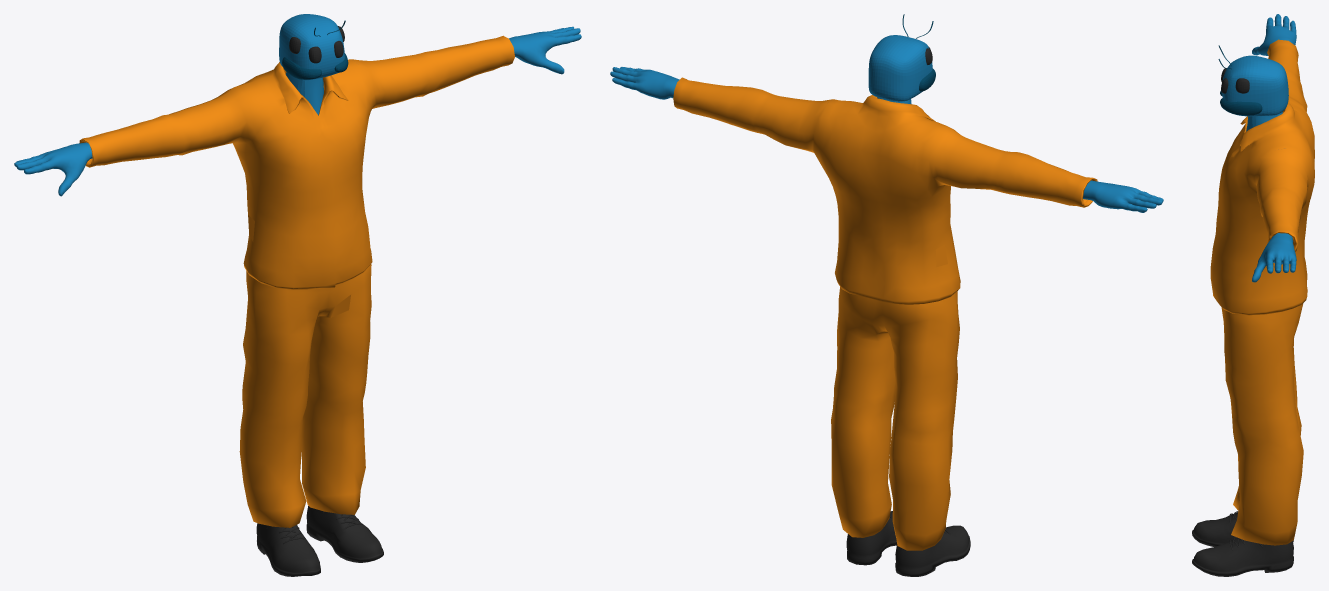
Rendered from Bibbs.obj.
The picture shows the model from 3 angles, left to right: view 1: azimuth 30°, elevation 25°; view 2: azimuth 150°, elevation 25°; view 3: azimuth 270°, elevation 25°; orthographic projection. The views are drawn at different scales.
Parts seen in each view (by area): view 1: Bibbs_Group Bibbs_Model_and_Texture:Giggles_Model_and_Texture:To, Bibbs_Group Bibbs_Model_and_Texture:Giggles_Model_and_Texture:Bo, Bibbs_Group Bibbs_Model_and_Texture:Giggles_Model_and_Texture:Sh, Bibbs_Group Bibbs_Model_and_Texture:Bibbs_Head:Group1, Bibbs_Model_and_Texture:Giggles_Model_and_Texture:Body Bibbs_Gro; view 2: Bibbs_Group Bibbs_Model_and_Texture:Giggles_Model_and_Texture:To, Bibbs_Group Bibbs_Model_and_Texture:Giggles_Model_and_Texture:Bo, Bibbs_Group Bibbs_Model_and_Texture:Bibbs_Head:Group1, Bibbs_Group Bibbs_Model_and_Texture:Giggles_Model_and_Texture:Sh, Bibbs_Model_and_Texture:Giggles_Model_and_Texture:Body Bibbs_Gro; view 3: Bibbs_Group Bibbs_Model_and_Texture:Giggles_Model_and_Texture:To, Bibbs_Group Bibbs_Model_and_Texture:Giggles_Model_and_Texture:Bo, Bibbs_Group Bibbs_Model_and_Texture:Giggles_Model_and_Texture:Sh, Bibbs_Group Bibbs_Model_and_Texture:Bibbs_Head:Group1, Bibbs_Model_and_Texture:Giggles_Model_and_Texture:Body Bibbs_Gro.
Part boxes in pixels (bbox=[...]): Bibbs_Group Bibbs_Model_and_Texture:Giggles_Model_and_Texture:To: bbox=[79, 35, 514, 289]; Bibbs_Group Bibbs_Model_and_Texture:Giggles_Model_and_Texture:Bo: bbox=[239, 264, 371, 527]; Bibbs_Group Bibbs_Model_and_Texture:Giggles_Model_and_Texture:Sh: bbox=[256, 506, 383, 576]; Bibbs_Group Bibbs_Model_and_Texture:Bibbs_Head:Group1: bbox=[279, 14, 348, 115]; Bibbs_Model_and_Texture:Giggles_Model_and_Texture:Body Bibbs_Gro: bbox=[14, 26, 581, 196]; Bibbs_Group Bibbs_Model_and_Texture:Giggles_Model_and_Texture:To: bbox=[673, 77, 1097, 304]; Bibbs_Group Bibbs_Model_and_Texture:Giggles_Model_and_Texture:Bo: bbox=[831, 287, 959, 550]; Bibbs_Group Bibbs_Model_and_Texture:Bibbs_Head:Group1: bbox=[868, 14, 935, 104]; Bibbs_Group Bibbs_Model_and_Texture:Giggles_Model_and_Texture:Sh: bbox=[846, 511, 970, 576]; Bibbs_Model_and_Texture:Giggles_Model_and_Texture:Body Bibbs_Gro: bbox=[610, 67, 1163, 212]; Bibbs_Group Bibbs_Model_and_Texture:Giggles_Model_and_Texture:To: bbox=[1210, 39, 1314, 315]; Bibbs_Group Bibbs_Model_and_Texture:Giggles_Model_and_Texture:Bo: bbox=[1221, 303, 1303, 545]; Bibbs_Group Bibbs_Model_and_Texture:Giggles_Model_and_Texture:Sh: bbox=[1192, 511, 1293, 576]; Bibbs_Group Bibbs_Model_and_Texture:Bibbs_Head:Group1: bbox=[1218, 45, 1288, 131]; Bibbs_Model_and_Texture:Giggles_Model_and_Texture:Body Bibbs_Gro: bbox=[1252, 14, 1296, 282].
Size of the model in its own units: 11.35 by 10.38 by 2.3.
1 material, 1 textured.
